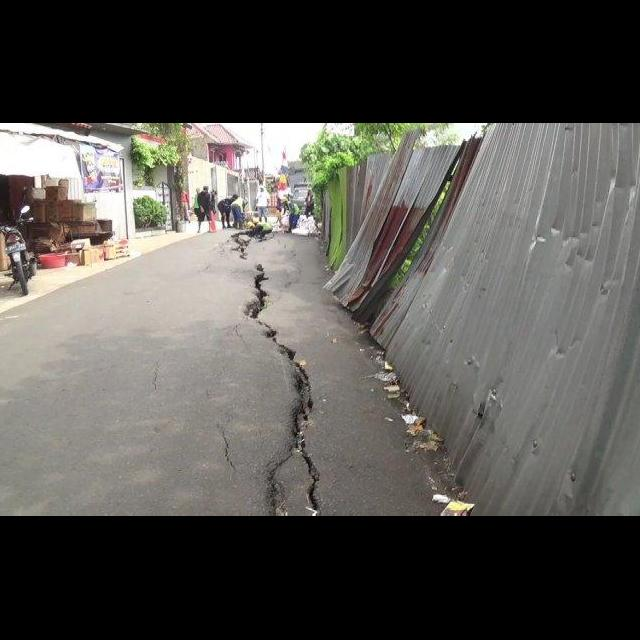retak_memanjang: (215, 240, 328, 516)
